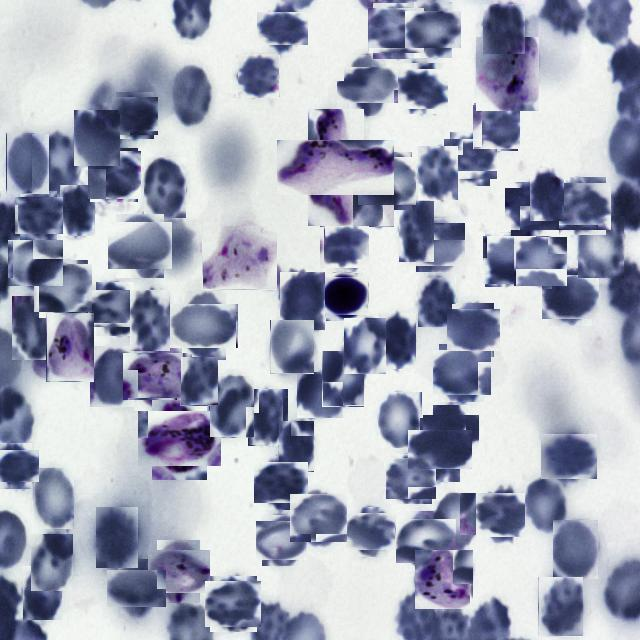gametocyte: (144, 403, 214, 472)
leukocyte: (323, 274, 368, 318)
red blood cell: (176, 297, 232, 353), (112, 218, 168, 274), (90, 346, 140, 407), (36, 262, 90, 316), (360, 154, 414, 208), (32, 134, 79, 196), (578, 215, 624, 278), (291, 492, 345, 544), (209, 376, 254, 438), (554, 520, 600, 579), (436, 347, 488, 399), (400, 515, 452, 567), (556, 180, 608, 232), (414, 424, 466, 476), (538, 577, 583, 637), (12, 296, 54, 360), (432, 493, 476, 554), (544, 271, 596, 322), (208, 578, 259, 630), (144, 157, 187, 218), (6, 133, 49, 194), (280, 272, 325, 330), (543, 431, 594, 482), (514, 236, 566, 286), (74, 110, 120, 166), (96, 507, 138, 568), (477, 490, 528, 540), (484, 234, 534, 285), (89, 150, 140, 200), (371, 6, 422, 56), (352, 167, 394, 227), (10, 238, 60, 288), (130, 288, 170, 350), (378, 392, 422, 448), (34, 468, 74, 529), (343, 61, 392, 110), (413, 220, 462, 269), (112, 564, 162, 612), (31, 534, 73, 591), (173, 66, 212, 127), (270, 320, 314, 374), (508, 184, 556, 233), (344, 318, 386, 374), (525, 479, 567, 534), (322, 351, 364, 406), (257, 459, 305, 507), (449, 306, 497, 354), (248, 389, 288, 446), (409, 6, 456, 54), (446, 136, 494, 182), (428, 410, 475, 456), (418, 146, 458, 200), (399, 201, 434, 262), (259, 518, 305, 564), (297, 372, 343, 418), (321, 224, 367, 270), (388, 456, 434, 502), (473, 104, 519, 150), (92, 286, 138, 332), (23, 566, 62, 620), (483, 4, 525, 54), (379, 313, 416, 369), (400, 66, 446, 111), (349, 509, 393, 554), (418, 276, 456, 326), (237, 54, 280, 98), (180, 357, 218, 406), (17, 194, 60, 237), (278, 421, 314, 472), (530, 168, 564, 221), (60, 185, 95, 236), (262, 8, 304, 50), (114, 95, 156, 136), (0, 446, 36, 485)
ring: (202, 226, 277, 290), (152, 545, 205, 598)
trophozoite: (293, 124, 379, 210), (476, 37, 539, 111), (414, 550, 474, 610), (128, 348, 188, 406), (46, 313, 94, 382)
